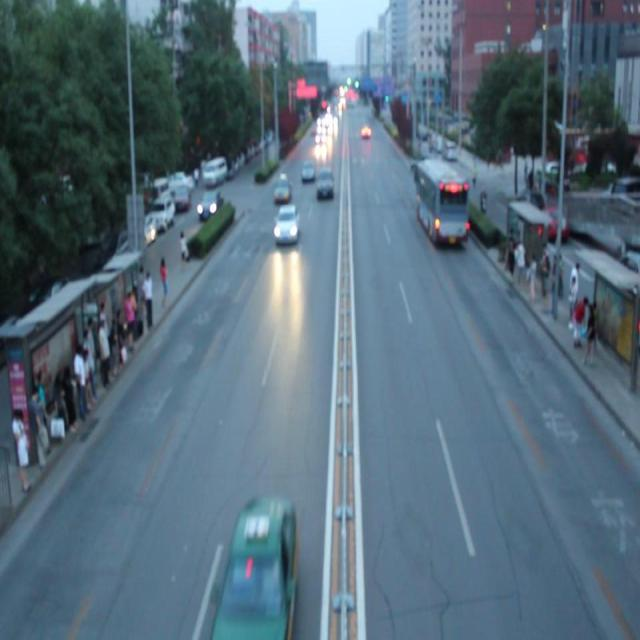car: (224, 498, 297, 624), (276, 206, 298, 244), (273, 176, 291, 202), (317, 169, 333, 197), (301, 163, 314, 182)
van: (413, 161, 468, 244)
